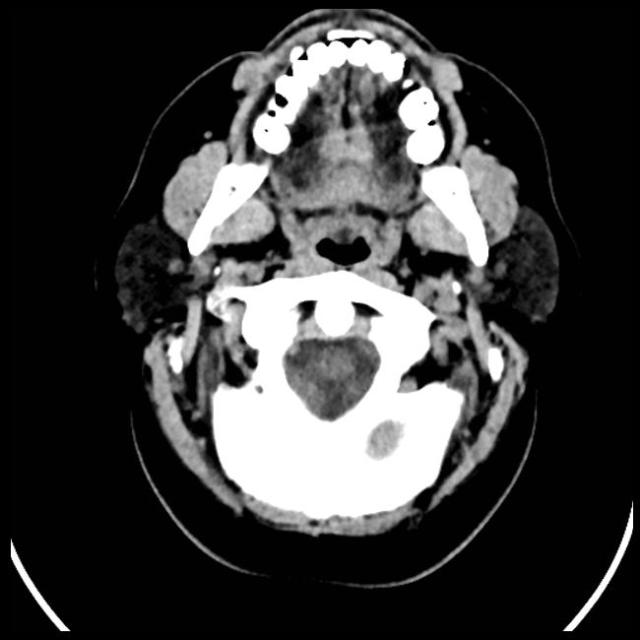lesion: (109, 8, 565, 546)
